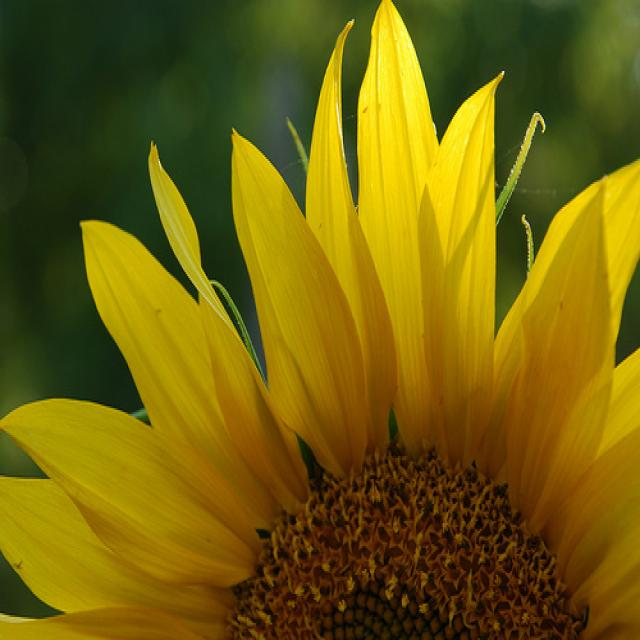sunflower: (5, 11, 640, 640)
